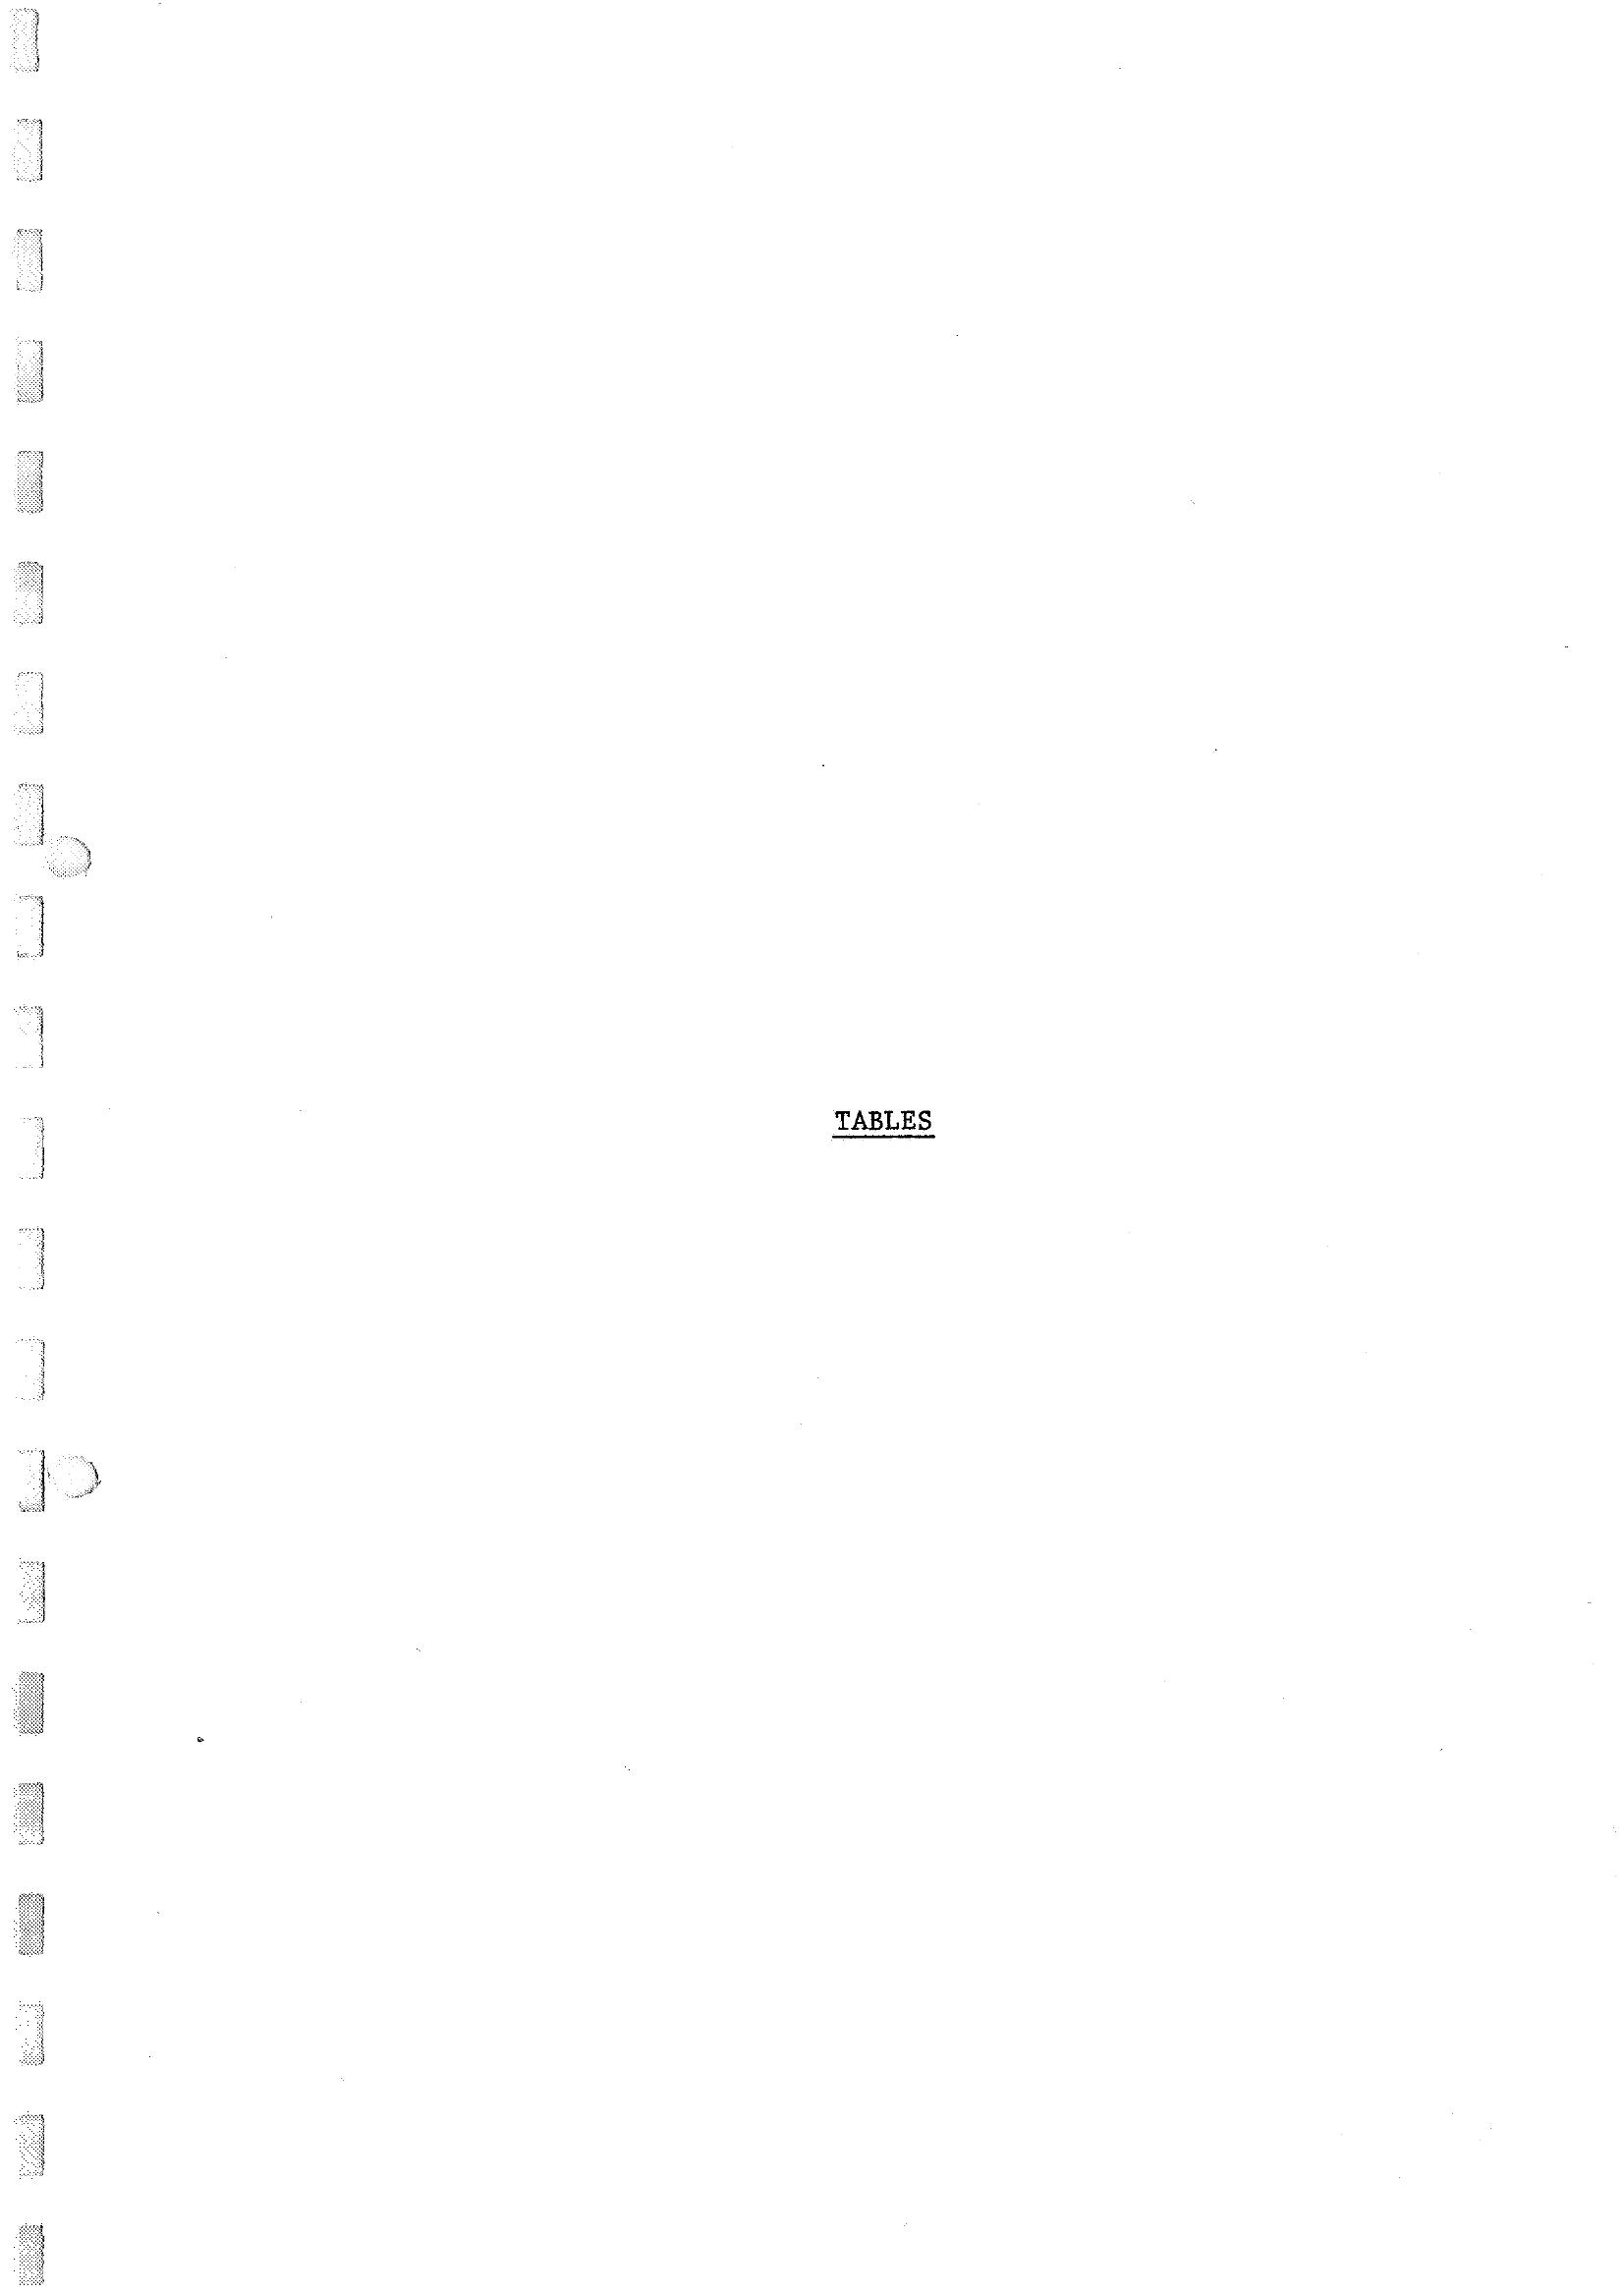text: (812, 1091, 967, 1161)
